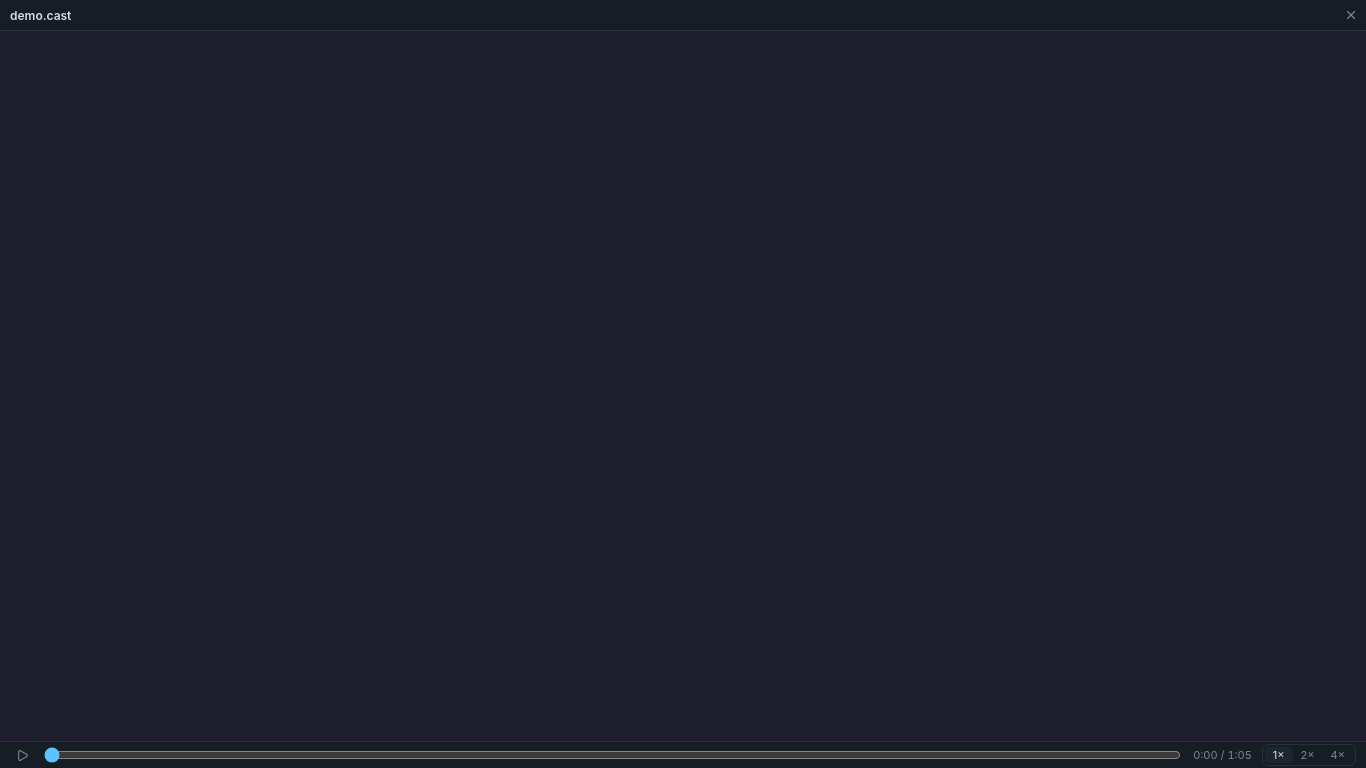
Test: CastPlayer › seeks from the progress bar: starts again and writes everything up to there at once
Set the slider named "Position" to "2.5" at (95, 755), box [44,747,1181,763]
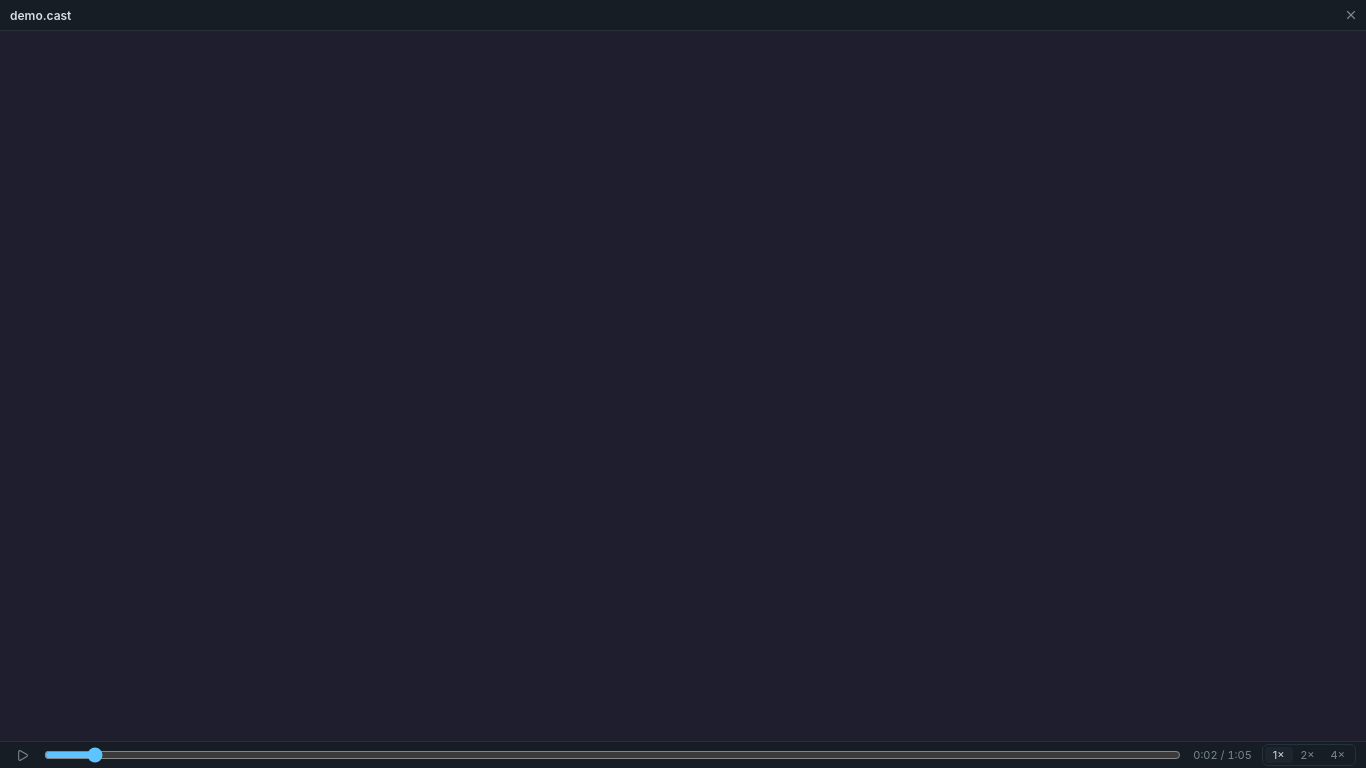
Now the text "0:02 / 1:05" is shown, box [1193,748,1252,762]
